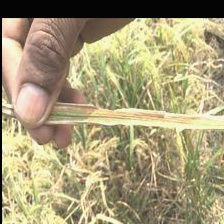Leaf_Blast: (50, 97, 219, 144)
